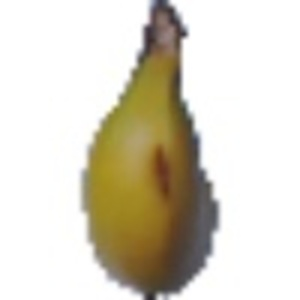banana: (77, 6, 222, 294)
